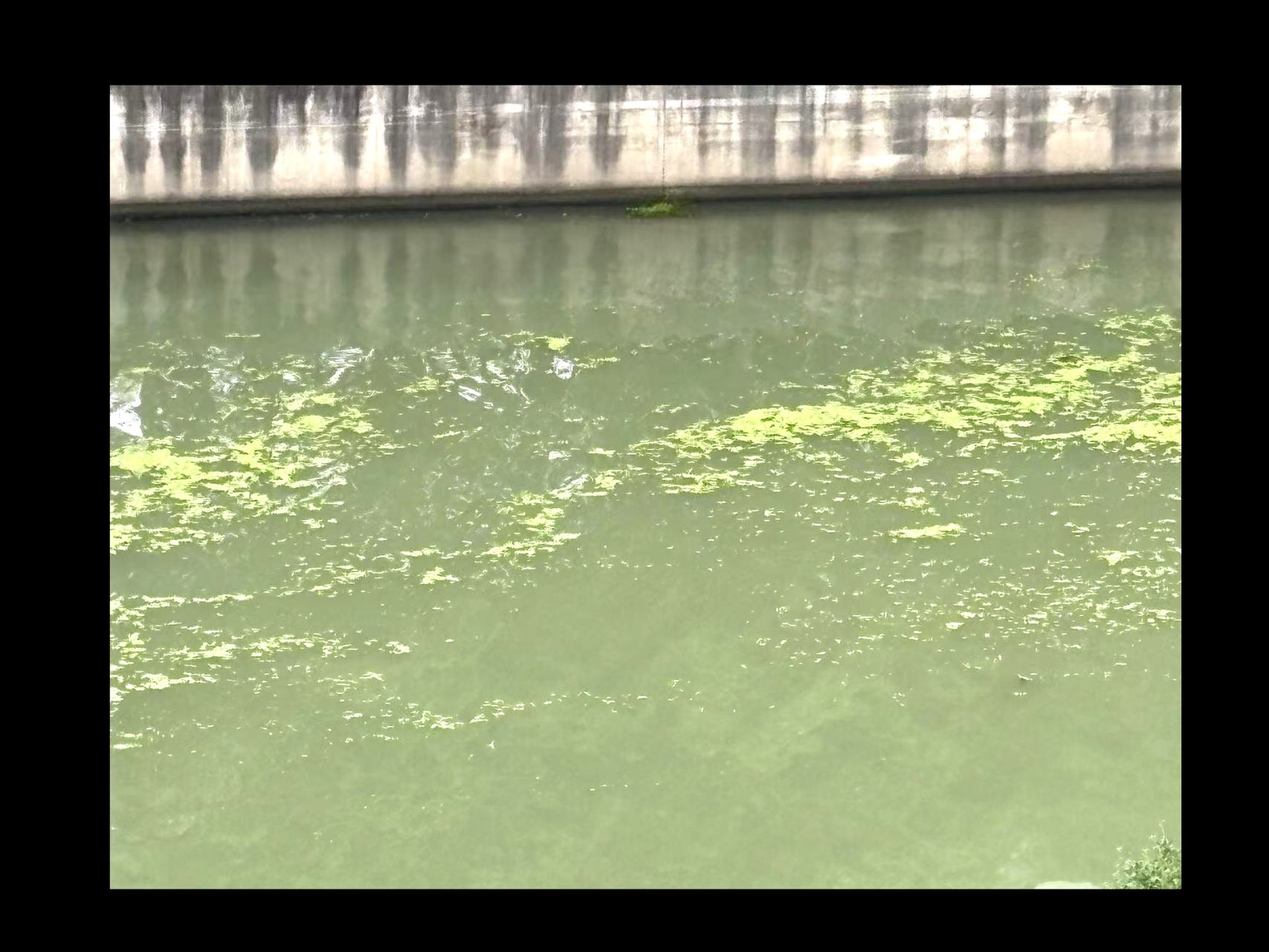Other: (110, 407, 364, 549), (1040, 314, 1172, 447), (682, 402, 889, 457), (901, 357, 1033, 440), (111, 634, 233, 688), (484, 497, 569, 567), (893, 521, 963, 536), (548, 332, 570, 352)
